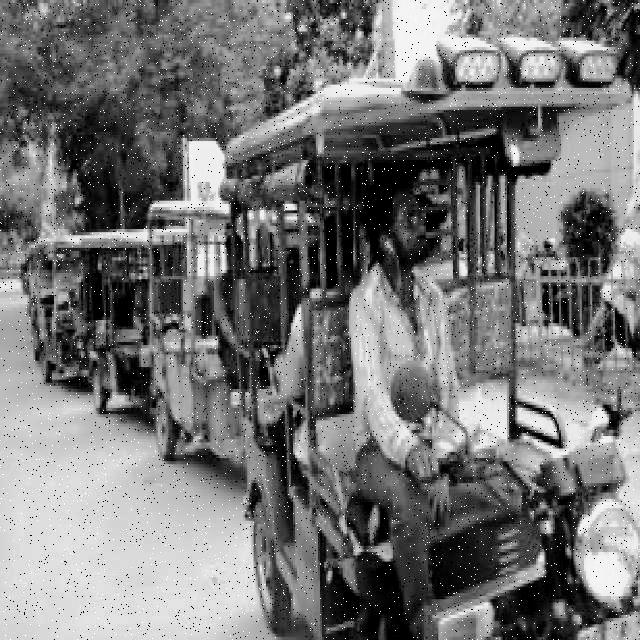Toto: (220, 72, 640, 640), (142, 194, 239, 473), (76, 226, 151, 418)
